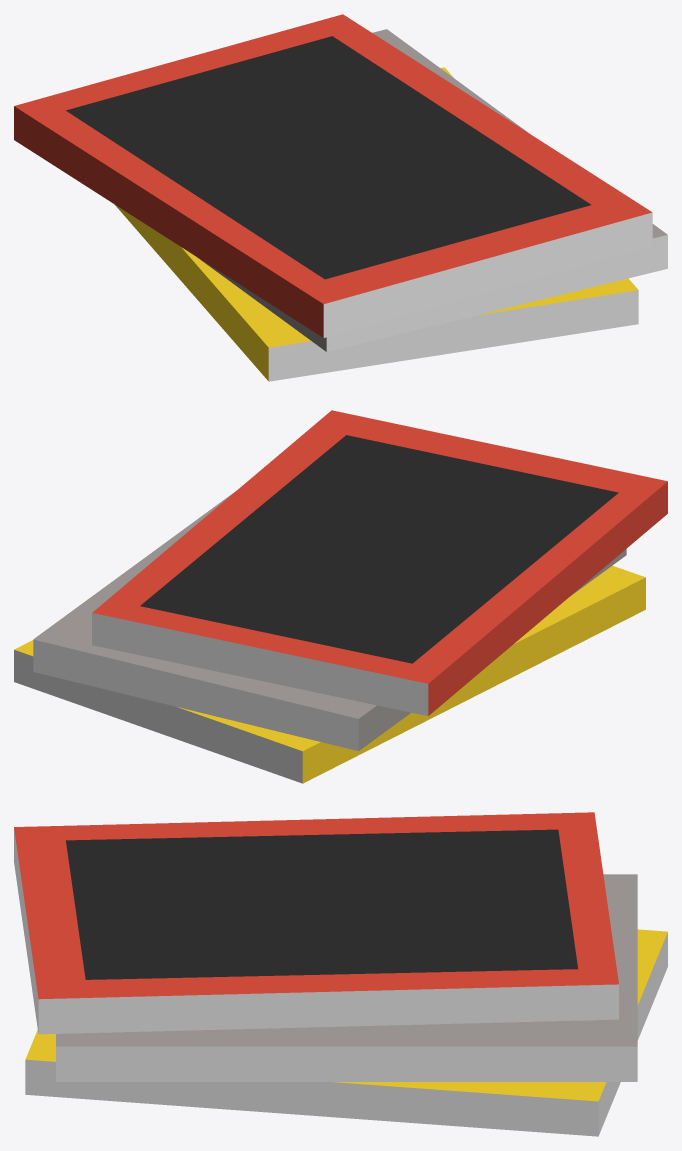
File: furniture_magazines-pile.fbx
3 views of the same model, one above another, from view 1: azimuth 30°, elevation 25°; view 2: azimuth 150°, elevation 25°; view 3: azimuth 270°, elevation 25° (orthographic). The views are drawn at different scales.
Visible parts, largest first — view 1: furniture_magazines_pile; view 2: furniture_magazines_pile; view 3: furniture_magazines_pile.
Part boxes in pixels (x1=…): furniture_magazines_pile: x1=14, y1=14, x2=667, y2=381; furniture_magazines_pile: x1=14, y1=410, x2=667, y2=783; furniture_magazines_pile: x1=14, y1=812, x2=667, y2=1136.
Bounding box in the file's own units: 158 × 35.7 × 200.
